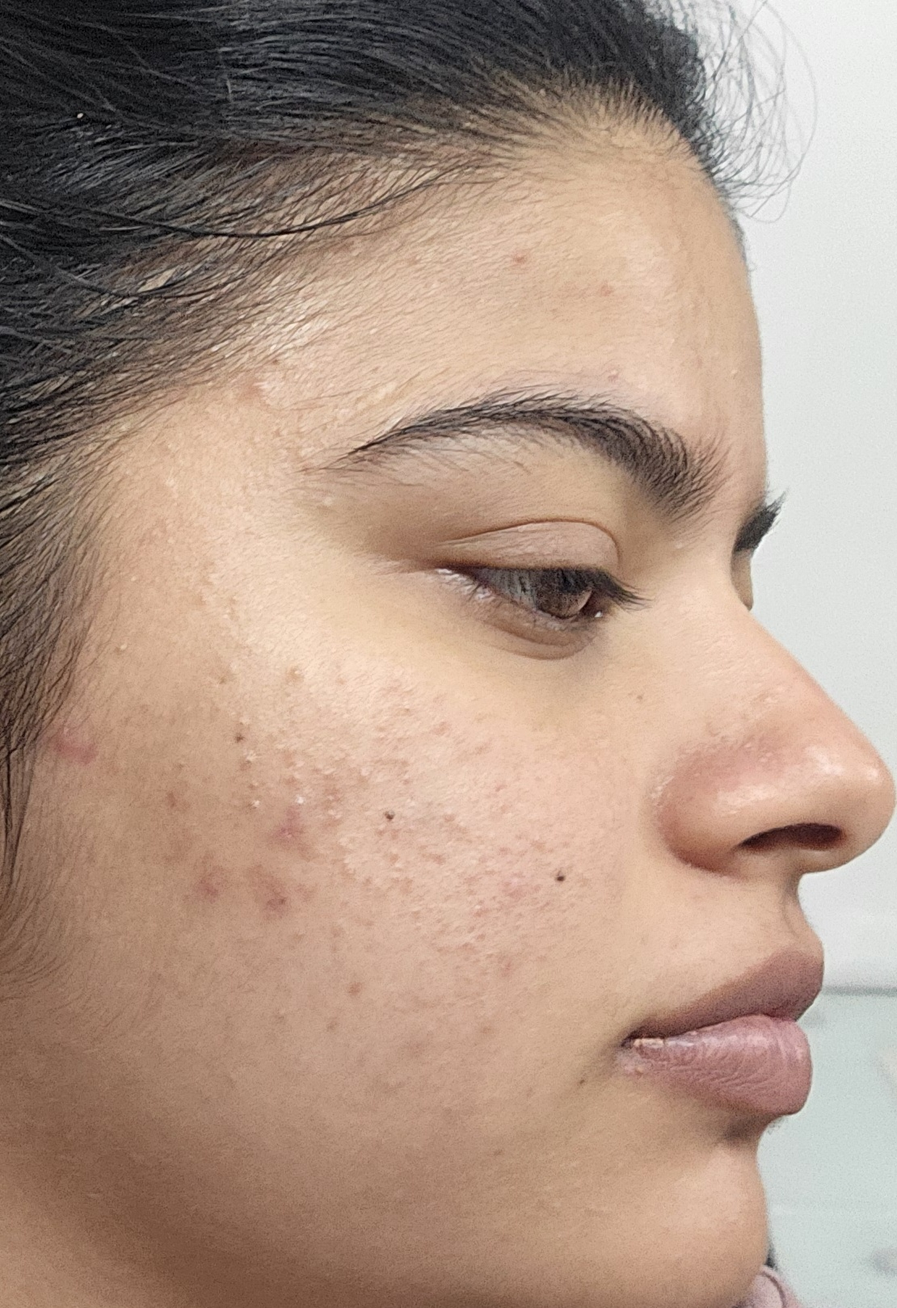closed_comedone: (447, 907, 505, 979), (306, 467, 362, 532), (386, 724, 434, 784), (438, 797, 494, 847), (278, 642, 319, 705), (211, 651, 261, 698), (244, 782, 285, 836), (151, 458, 187, 519), (285, 787, 328, 825)
papule: (233, 381, 321, 443), (239, 849, 289, 925), (183, 843, 233, 907)
